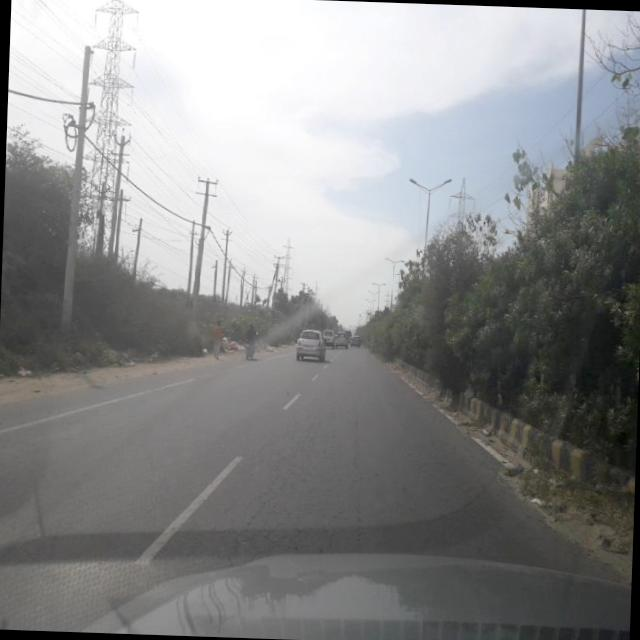crack: (212, 404, 522, 562)
pothole: (342, 382, 376, 552)
